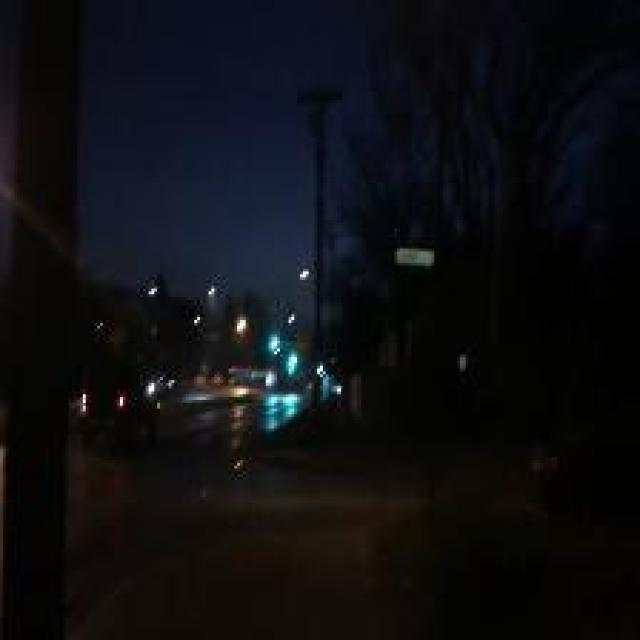other: (224, 312, 288, 400)
